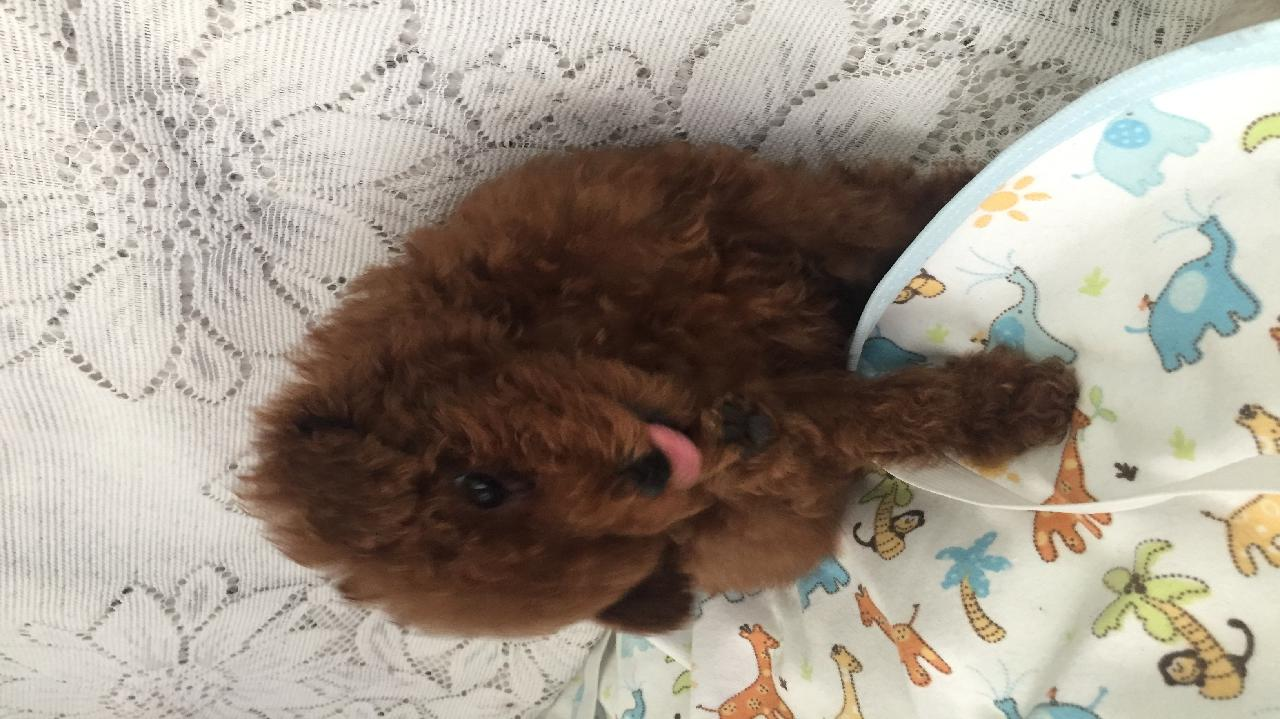coin: (247, 158, 1088, 659)
